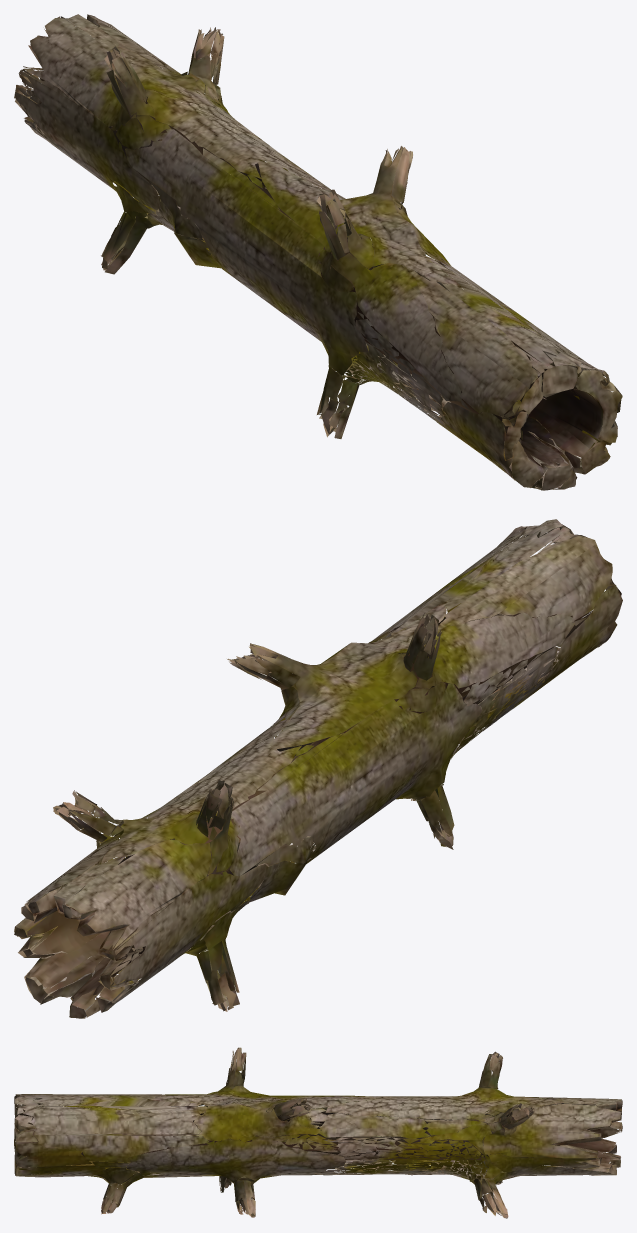
The model's file is obs_biglog.glb.
The picture shows the model from 3 angles, top to bottom: view 1: azimuth 30°, elevation 25°; view 2: azimuth 150°, elevation 25°; view 3: azimuth 270°, elevation 25°; orthographic projection. The views are drawn at different scales.
Parts seen in each view (by area): view 1: material; view 2: material; view 3: material.
Part boxes in pixels (x1,y1,x2,y2): material: (14,14,622,490); material: (14,519,622,1018); material: (14,1047,622,1218).
Size of the model in its own units: 0.2503 by 0.3136 by 1.18.
1 material, 1 textured.
